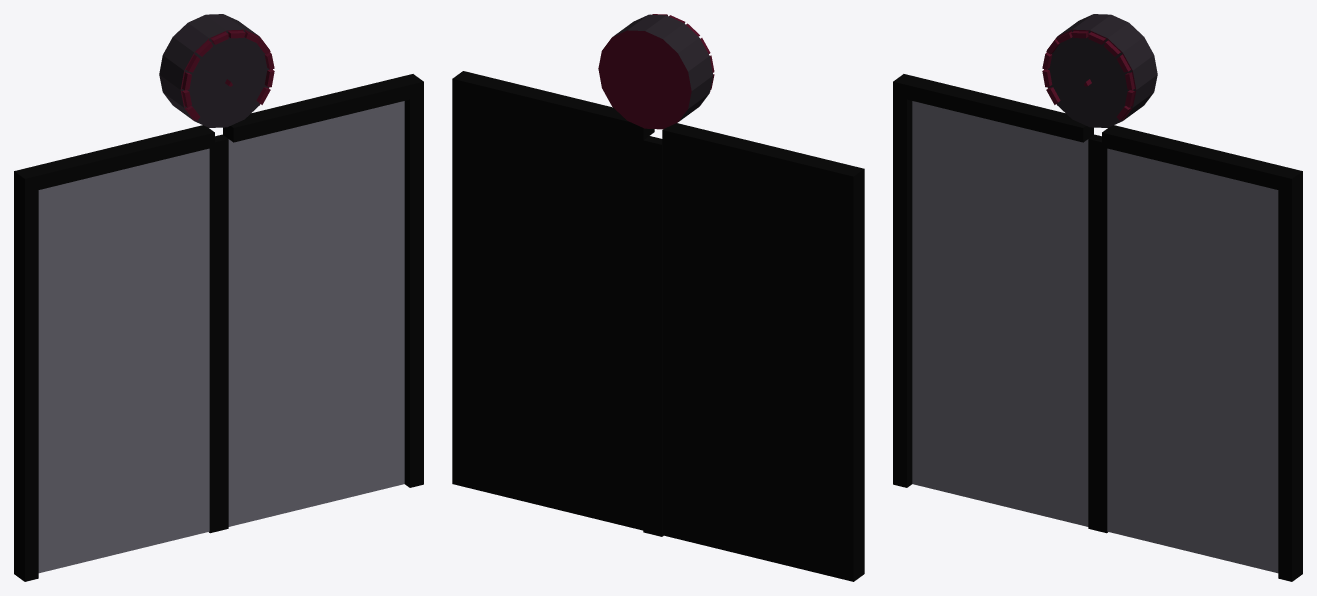
File: Kapi.fbx
3 renders of one model, left to right at view 1: azimuth 30°, elevation 25°; view 2: azimuth 150°, elevation 25°; view 3: azimuth 330°, elevation 25°, orthographic.
Visible parts, largest first — view 1: Kapi; view 2: Kapi; view 3: Kapi.
Part boxes in pixels (bbox=[...]): Kapi: bbox=[14, 14, 423, 581]; Kapi: bbox=[452, 14, 864, 581]; Kapi: bbox=[893, 14, 1302, 581].
Bounding box in the file's own units: 215 × 261 × 23.75.
2 materials, 2 textured.
